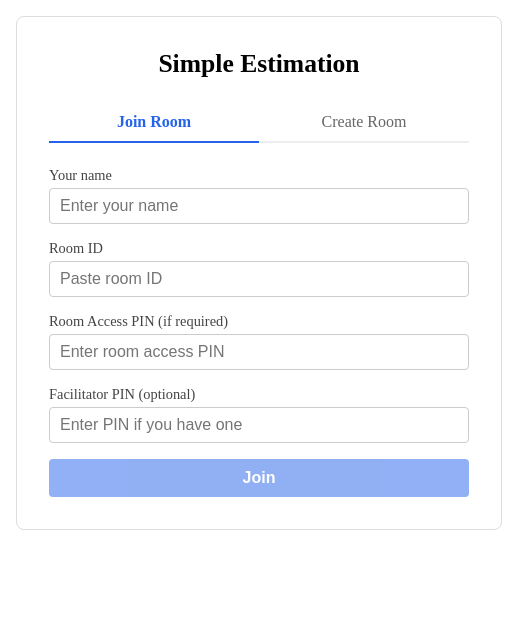
JoinForm › create mode › switches to create fields when Create Room tab is clicked
This screenshot has width=519, height=621.
Click the tab "Create Room": [364, 123] box [259,103,469,143]
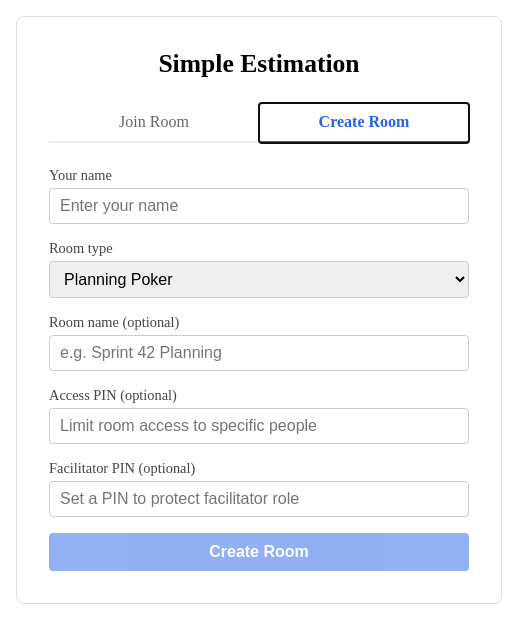
Expected: the field with placeholder "Paste room ID" is not shown
Expected: the field with placeholder "Set a PIN to protect facilitator role" is shown, [49,481,469,517]
Expected: the field with placeholder "Limit room access to specific people" is shown, [49,408,469,444]
